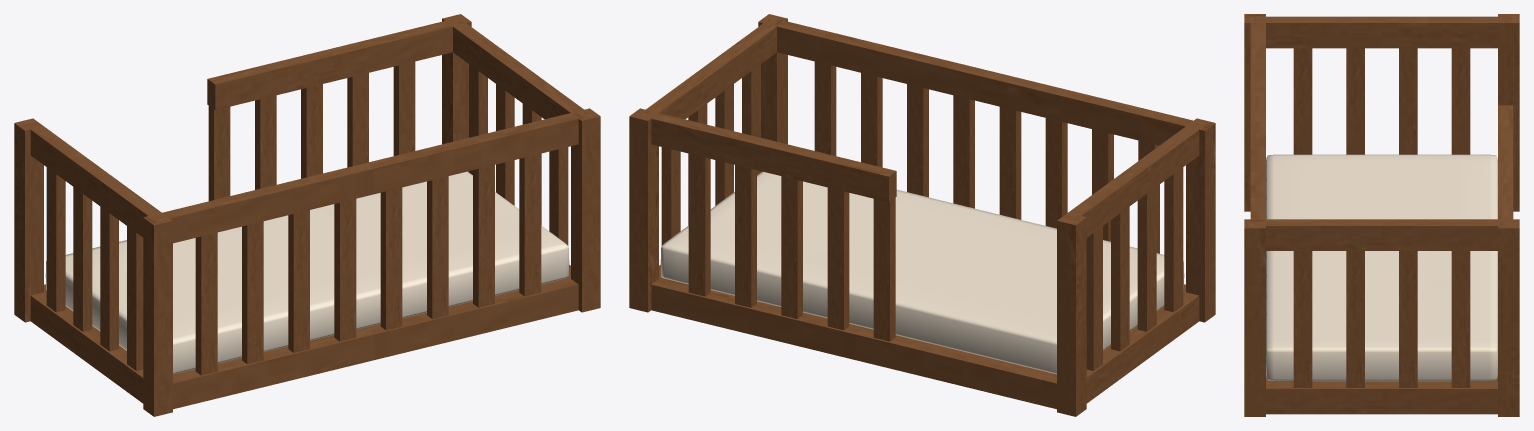
The model's file is Bed34.glb.
The picture shows the model from 3 angles, left to right: view 1: azimuth 30°, elevation 25°; view 2: azimuth 150°, elevation 25°; view 3: azimuth 270°, elevation 25°; orthographic projection.
Visible parts, largest first — view 1: BedFrame34, Mattress34; view 2: BedFrame34, Mattress34; view 3: BedFrame34, Mattress34.
Boxes of the visible parts, x1,y1,x2,y2 form: BedFrame34: [14, 14, 600, 416]; Mattress34: [45, 171, 569, 374]; BedFrame34: [629, 14, 1215, 416]; Mattress34: [660, 171, 1184, 374]; BedFrame34: [1244, 14, 1519, 416]; Mattress34: [1266, 154, 1497, 381].
Bounding box in the file's own units: 3.05 × 1.25 × 1.65.
2 materials, 2 textured.
